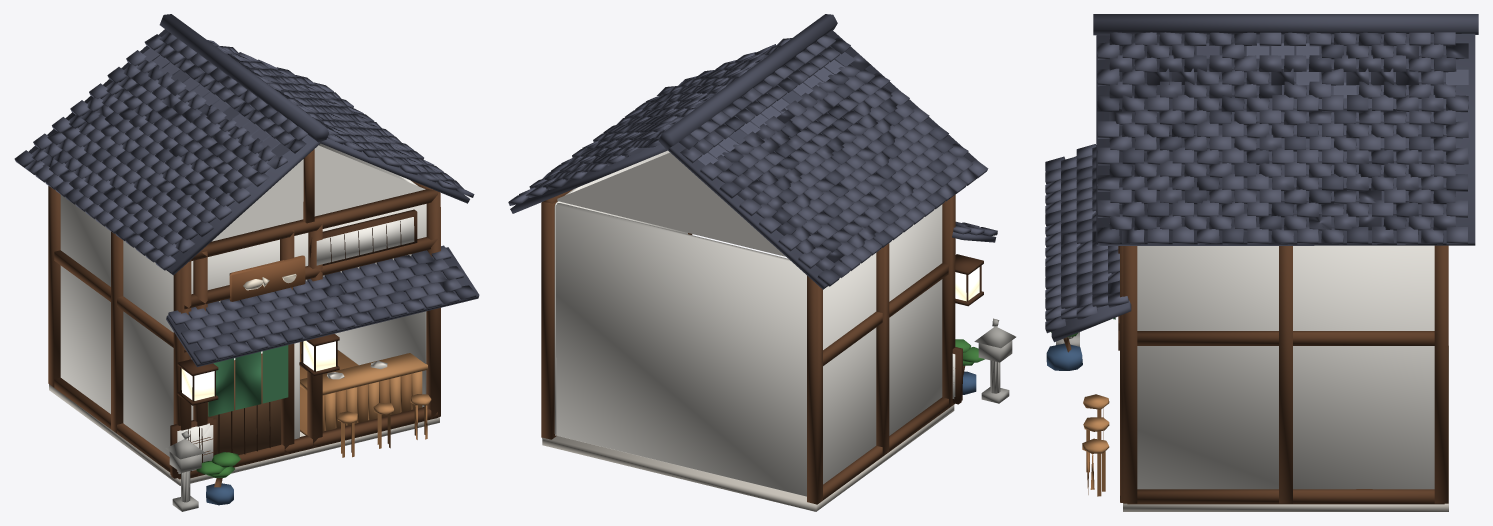
The model's file is washoku.glb.
3 views of the same model, side by side, from view 1: azimuth 30°, elevation 25°; view 2: azimuth 150°, elevation 25°; view 3: azimuth 270°, elevation 25° (orthographic). The views are drawn at different scales.
Visible parts, largest first — view 1: washoku; view 2: washoku; view 3: washoku.
Part boxes in pixels (x1=…): washoku: x1=14, y1=14, x2=479, y2=511; washoku: x1=508, y1=14, x2=1015, y2=511; washoku: x1=1045, y1=14, x2=1478, y2=511.
Size of the model in its own units: 2.89 by 2.96 by 2.78.
